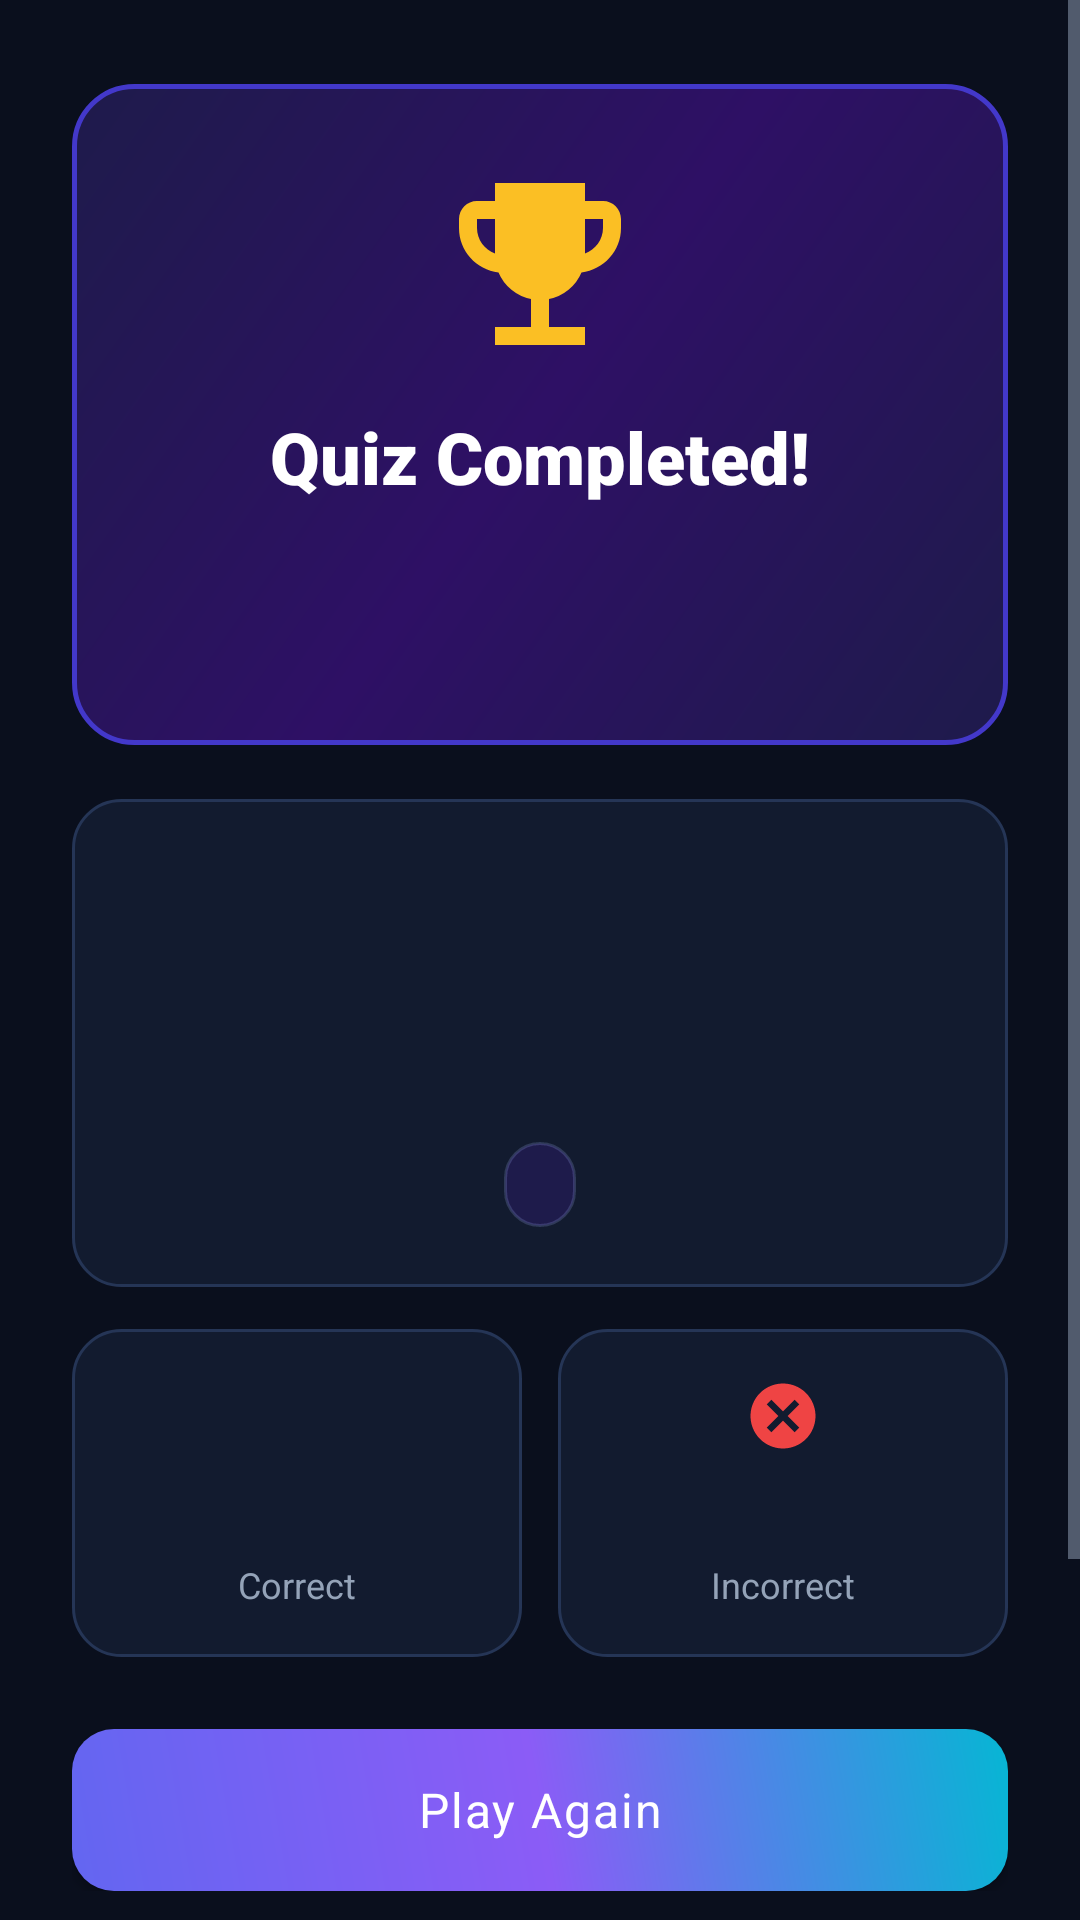

Icon bounding boxes for this 1080*1920 phone screenshot, format (x1, y1, x2, y2):
close circle: (750, 1383, 816, 1449)
Trophy Icon: (459, 183, 621, 345)
